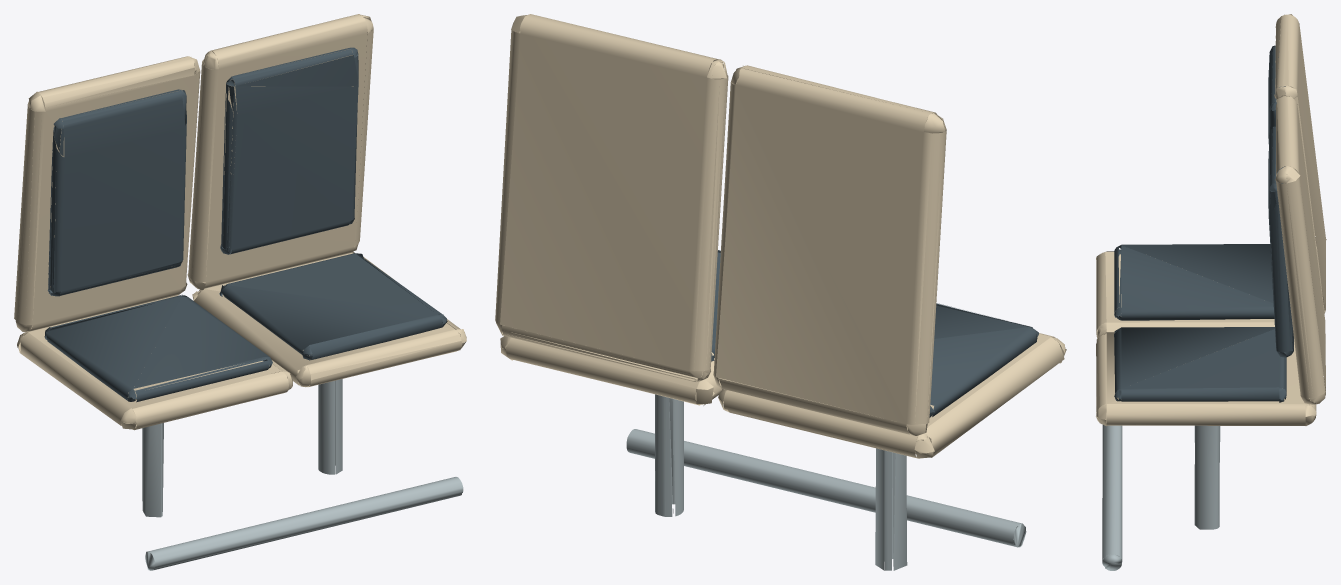
Rendered from nantes405_seat.glb.
3 views of the same model, side by side, from view 1: azimuth 30°, elevation 25°; view 2: azimuth 150°, elevation 25°; view 3: azimuth 270°, elevation 25° (orthographic). The views are drawn at different scales.
Visible parts, largest first — view 1: Seat; view 2: Seat; view 3: Seat.
Part boxes in pixels (x1,y1,x2,y2): Seat: (14, 14, 466, 570); Seat: (495, 14, 1066, 570); Seat: (1096, 14, 1326, 570).
Size of the model in its own units: 0.9424 by 1.08 by 0.564.
